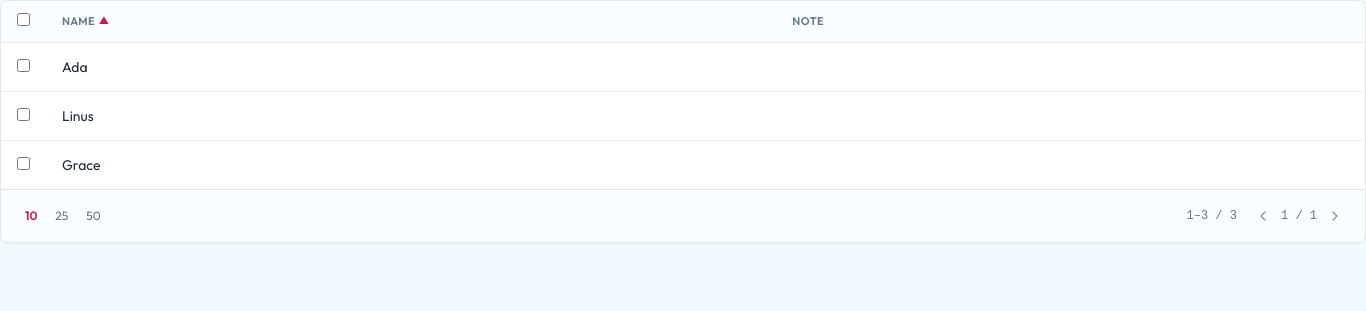
Test: DataTable › shift+click selects the inclusive range
Click the checkbox named "Select row" next to "Ada".
click(24, 65)  # box [17,59,30,72]
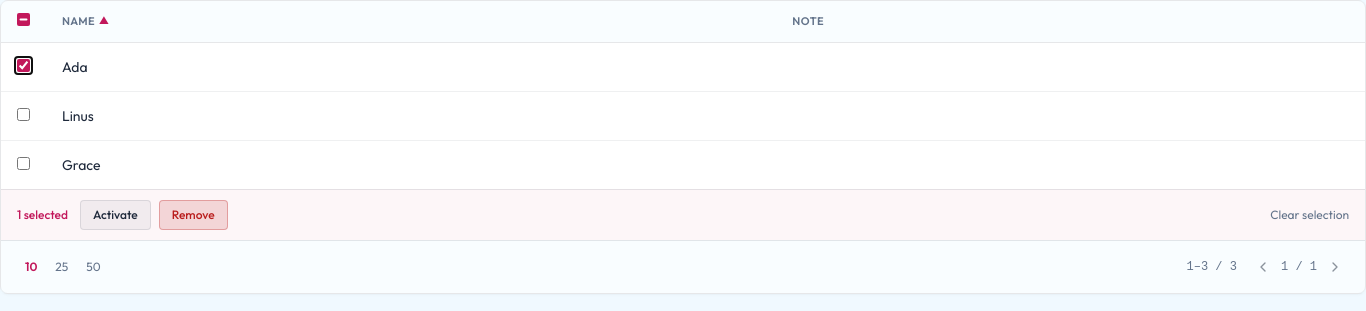
user-event does not carry shift on checkbox clicks — dispatch it explicitly.
Click the checkbox named "Select row" next to "Grace".
click(24, 163)  # box [17,157,30,170]
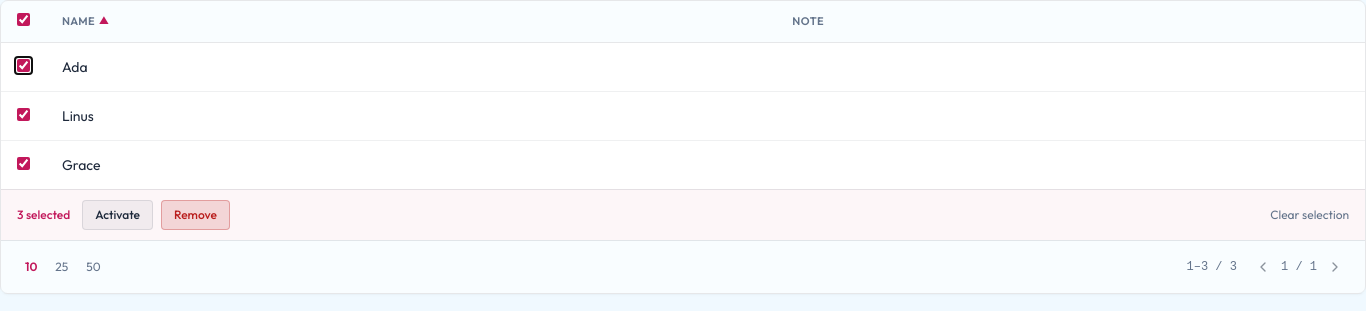
Now the text "3 selected" is shown, box [17,207,70,223]
